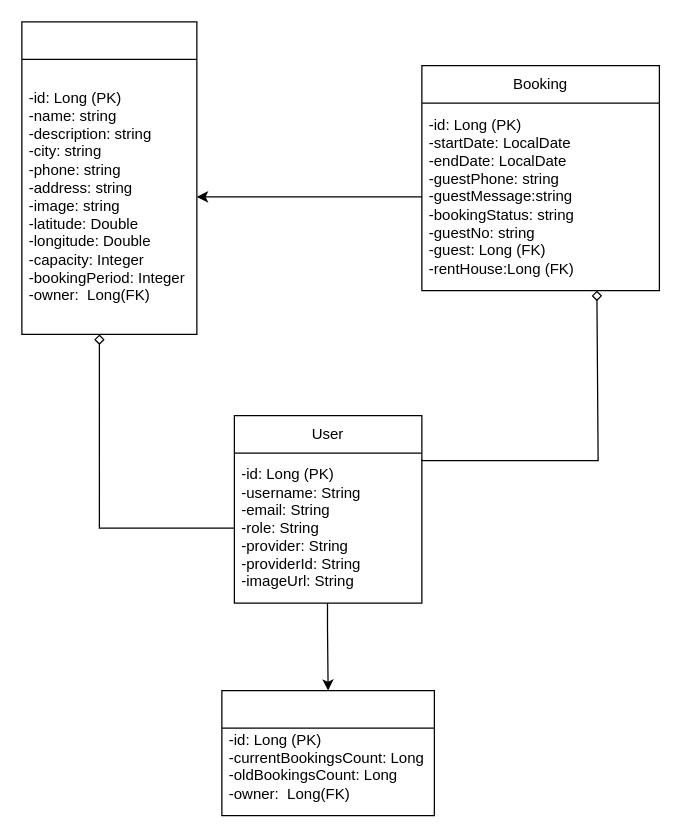
Image size: 681x838. Some labels were removed from this diagram. Each missing label, with the box of its shape:
House: (21, 21, 197, 334)
ItemControl: (221, 689, 434, 816)
